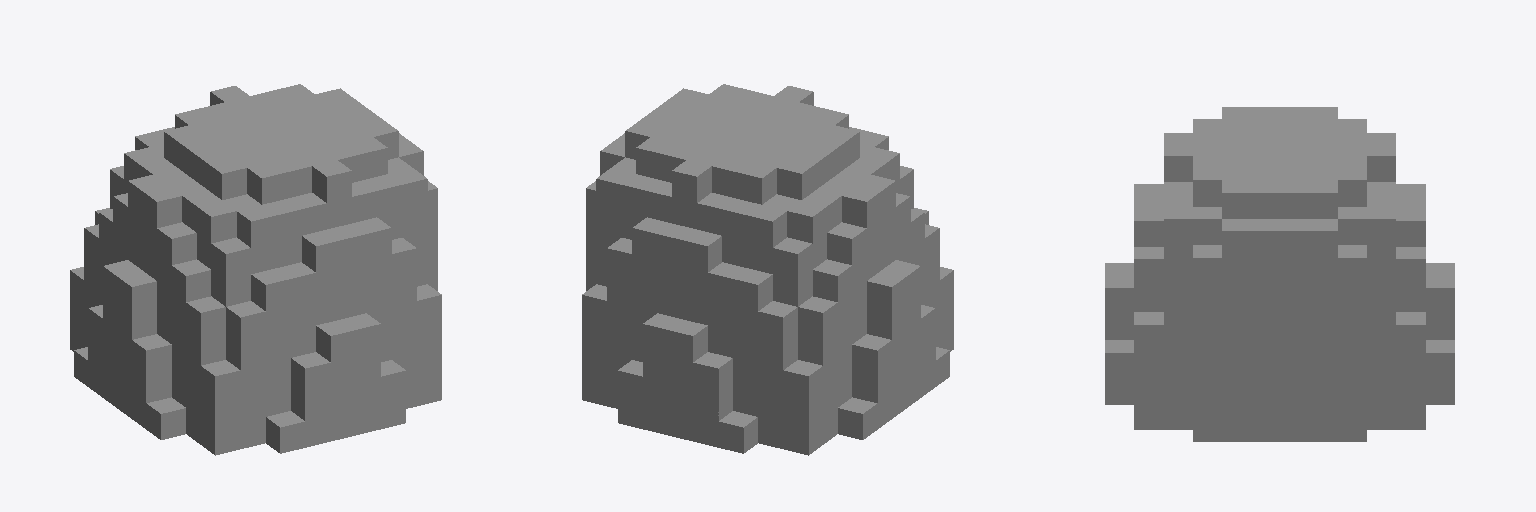
File: waystone_model_detailed_0.obj
3 views of the same model, side by side, from view 1: azimuth 30°, elevation 25°; view 2: azimuth 150°, elevation 25°; view 3: azimuth 270°, elevation 25° (orthographic).
Parts seen in each view (by area): view 1: Cube.001_Cube.006; view 2: Cube.001_Cube.006; view 3: Cube.001_Cube.006.
Boxes of the visible parts, x1=… form: Cube.001_Cube.006: x1=70, y1=84, x2=441, y2=455; Cube.001_Cube.006: x1=582, y1=84, x2=953, y2=455; Cube.001_Cube.006: x1=1105, y1=107, x2=1454, y2=441.
Bounding box in the file's own units: 0.5524 × 0.4519 × 0.6026.